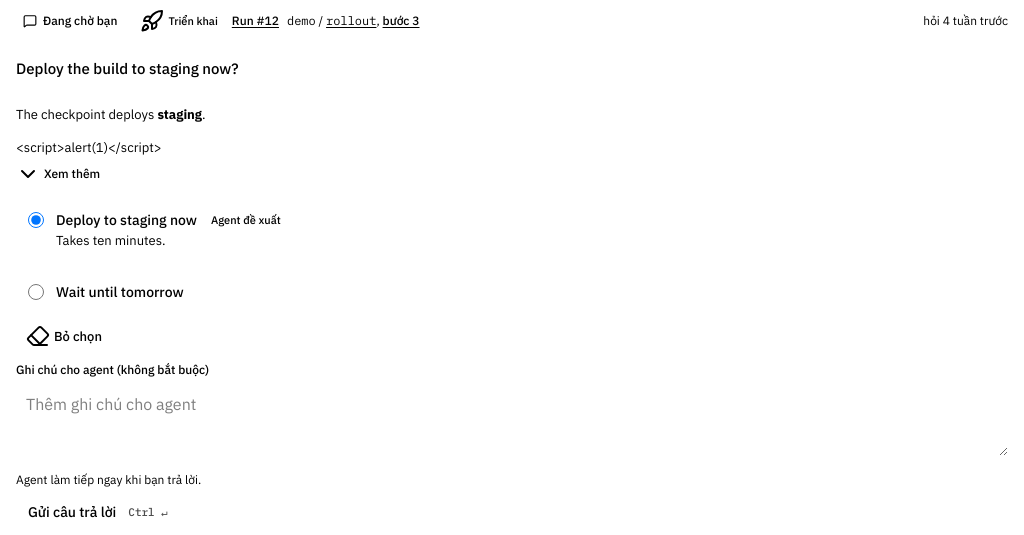
Test case: DecisionCard › folds a long context after four lines and unfolds it
Click the button with test id "decision-context-toggle" at (58, 174), box 16,162 -> 100,186
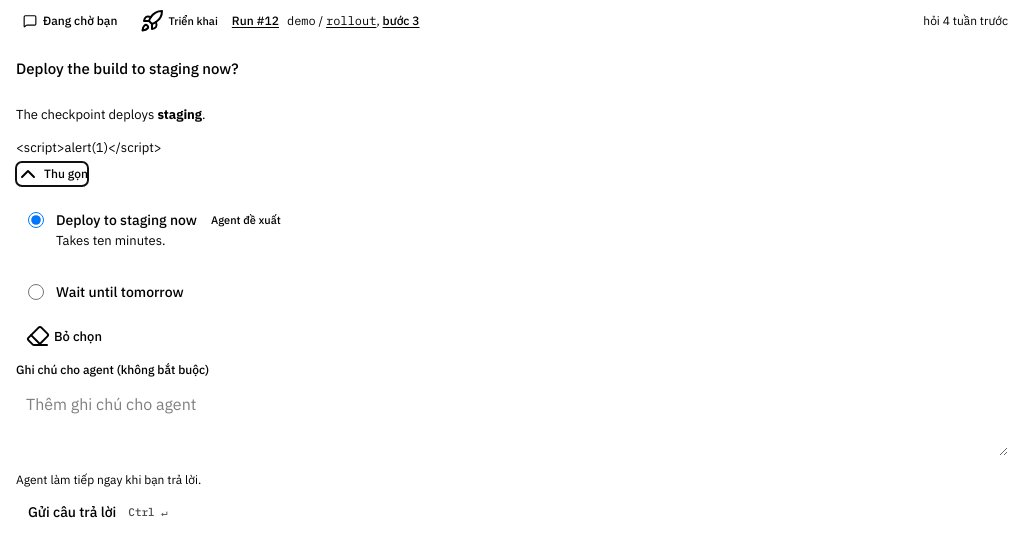
Now the button with test id "decision-context-toggle" is expanded, box 16,162 -> 88,186
Now the button with test id "decision-context-toggle" reads "Thu gọn", box 16,162 -> 88,186
